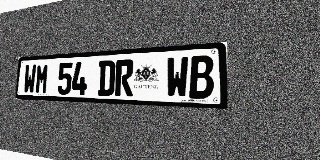4: (71, 61, 88, 95)
5: (57, 62, 73, 95)
B: (189, 55, 214, 99)
D: (97, 60, 115, 96)
M: (35, 63, 49, 94)
R: (115, 59, 134, 97)
W: (166, 56, 189, 98), (23, 64, 36, 94)
